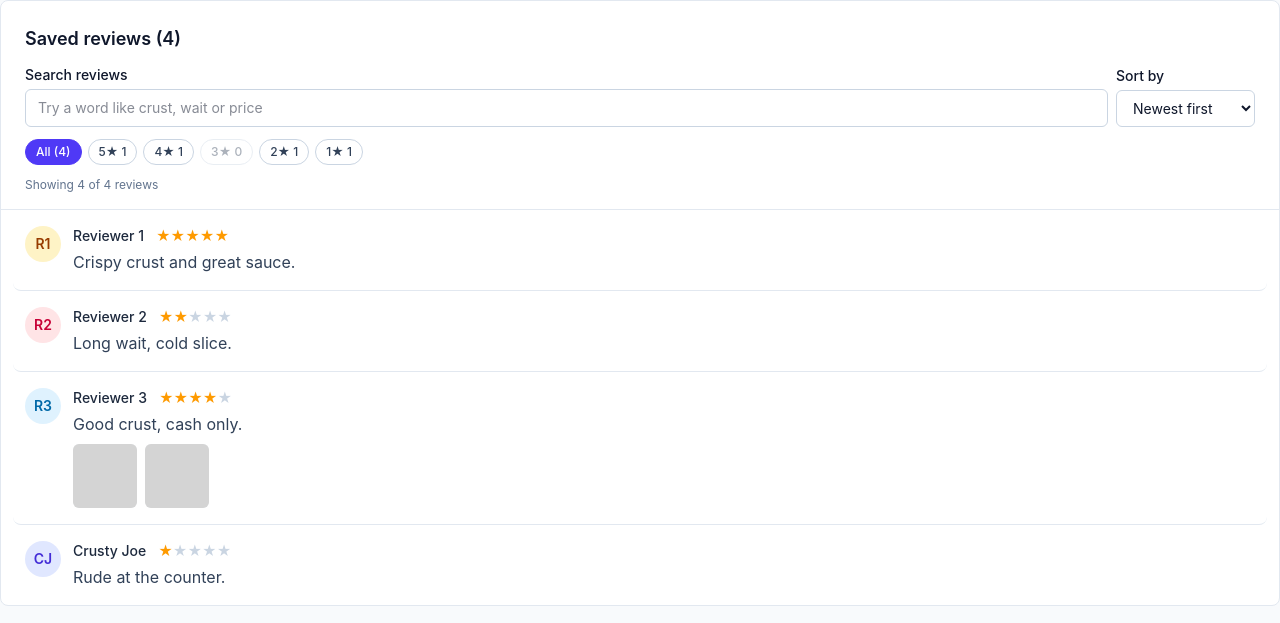
Review explorer › searches text and reviewer names and highlights the matches
Expected: the text "Showing 4 of 4 reviews" is shown, left=25, top=177, right=158, bottom=192
Step 1. Type "crust" into the search field labelled "Search reviews" → {"x": 566, "y": 108}, box left=25, top=89, right=1108, bottom=127
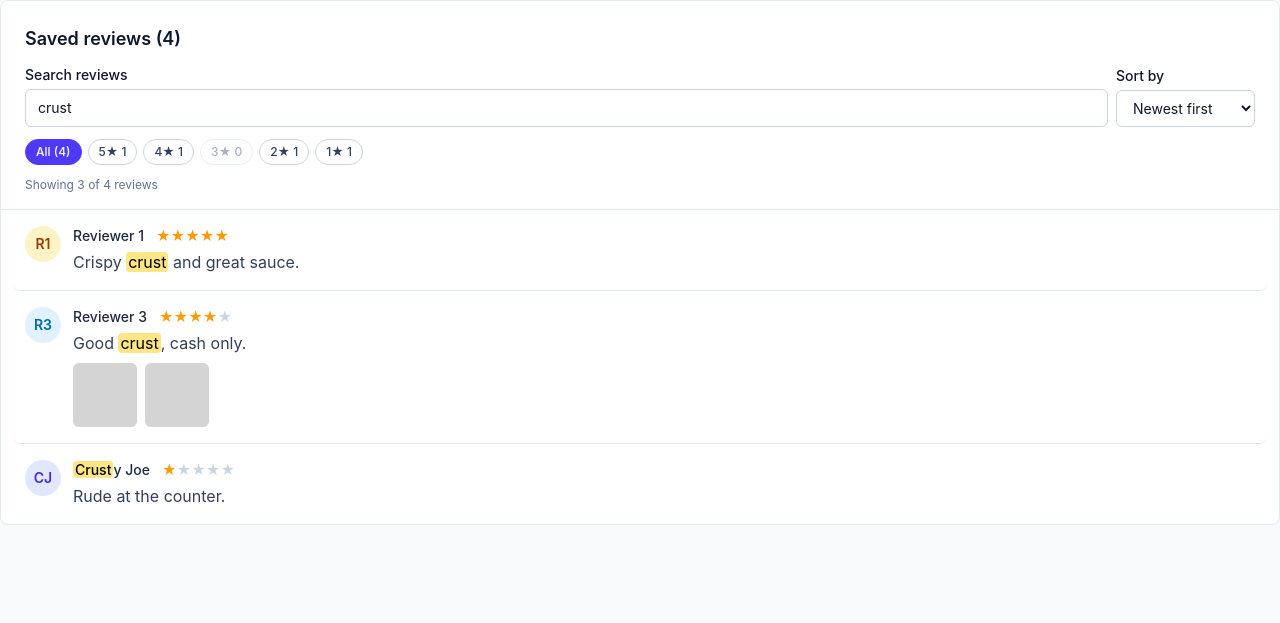
Expected: the text "Showing 3 of 4 reviews" is shown, left=25, top=177, right=158, bottom=192
